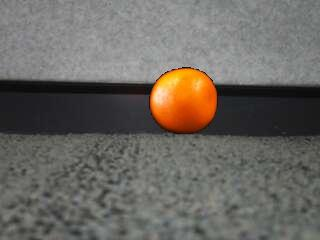Orange: (147, 66, 219, 135)
